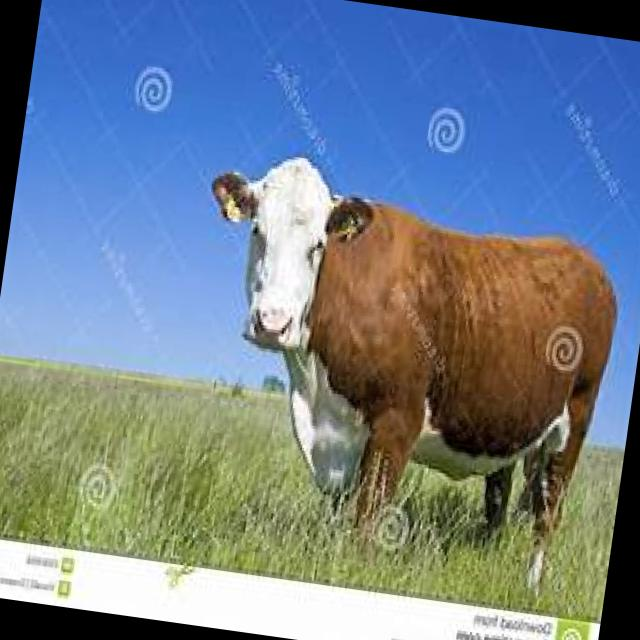cow: (162, 144, 636, 604)
